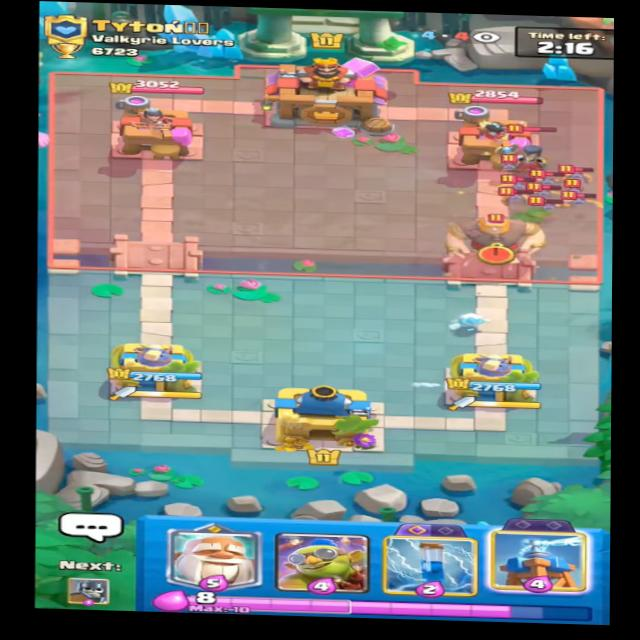bats: (496, 157, 533, 176), (530, 169, 561, 188), (570, 170, 609, 185), (498, 188, 530, 206), (564, 192, 593, 210), (531, 197, 558, 214), (503, 175, 527, 192)
giant: (447, 208, 550, 267)
night-witch: (495, 124, 563, 172)
